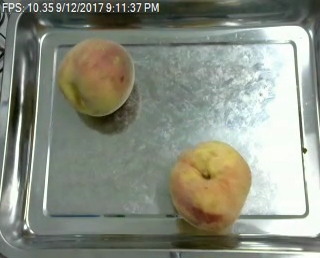Peach: (169, 139, 251, 231), (56, 37, 135, 116)
